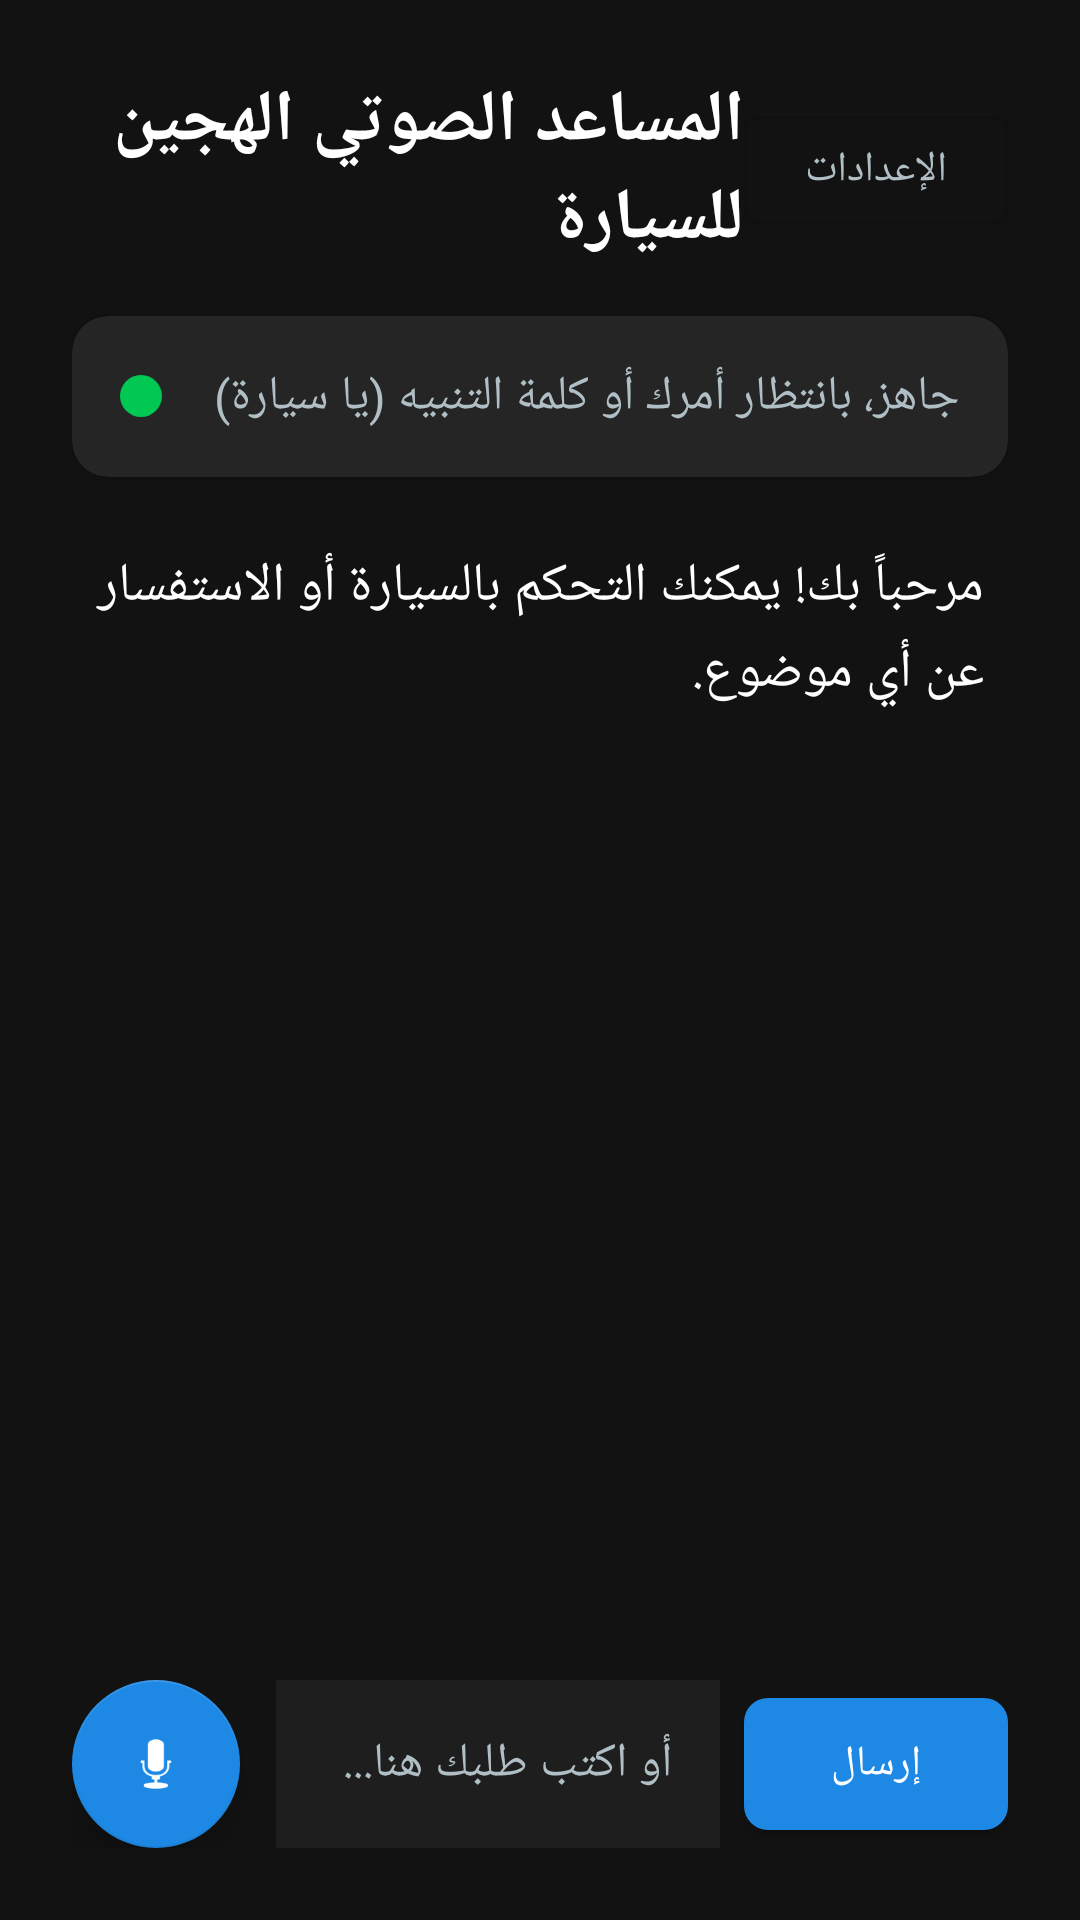

Screen size 1080w x 1920h. Icon name, then its center in pixels as (x=x, y=y):
speak now: (x=156, y=1764)
